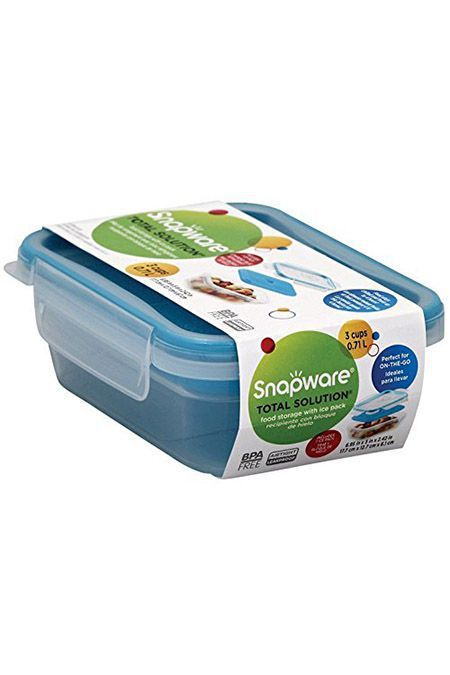PlasticBox: (1, 189, 450, 483)
